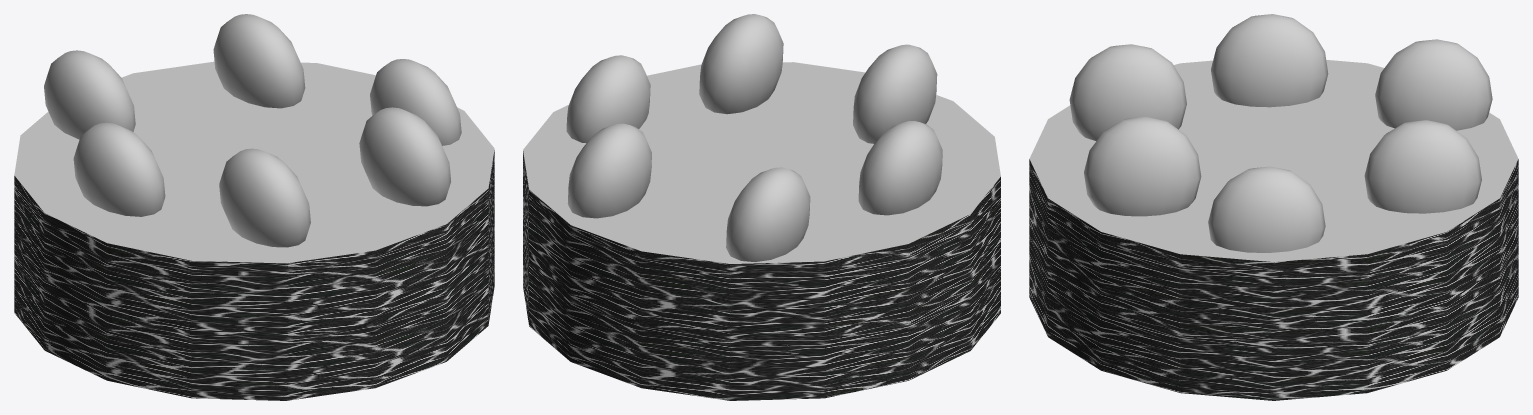
Rendered from chocolatecake.dae.
The picture shows the model from 3 angles, left to right: view 1: azimuth 30°, elevation 25°; view 2: azimuth 150°, elevation 25°; view 3: azimuth 270°, elevation 25°; orthographic projection.
Visible parts, largest first — view 1: 円の掃引体, 球 (×6); view 2: 円の掃引体, 球 (×6); view 3: 円の掃引体, 球 (×6).
Part boxes in pixels (left/top/right/bottom): 円の掃引体: left=14, top=61, right=494, bottom=400; 球 (×6): left=44, top=14, right=461, bottom=247; 円の掃引体: left=523, top=62, right=1000, bottom=400; 球 (×6): left=566, top=14, right=942, bottom=261; 円の掃引体: left=1029, top=60, right=1518, bottom=400; 球 (×6): left=1069, top=14, right=1492, bottom=252.
Size of the model in its own units: 171 by 83.76 by 171.
